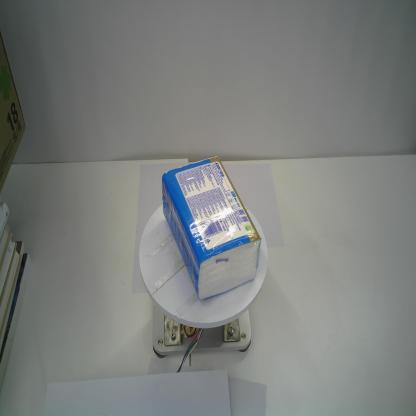Tissue: (162, 154, 261, 301)
